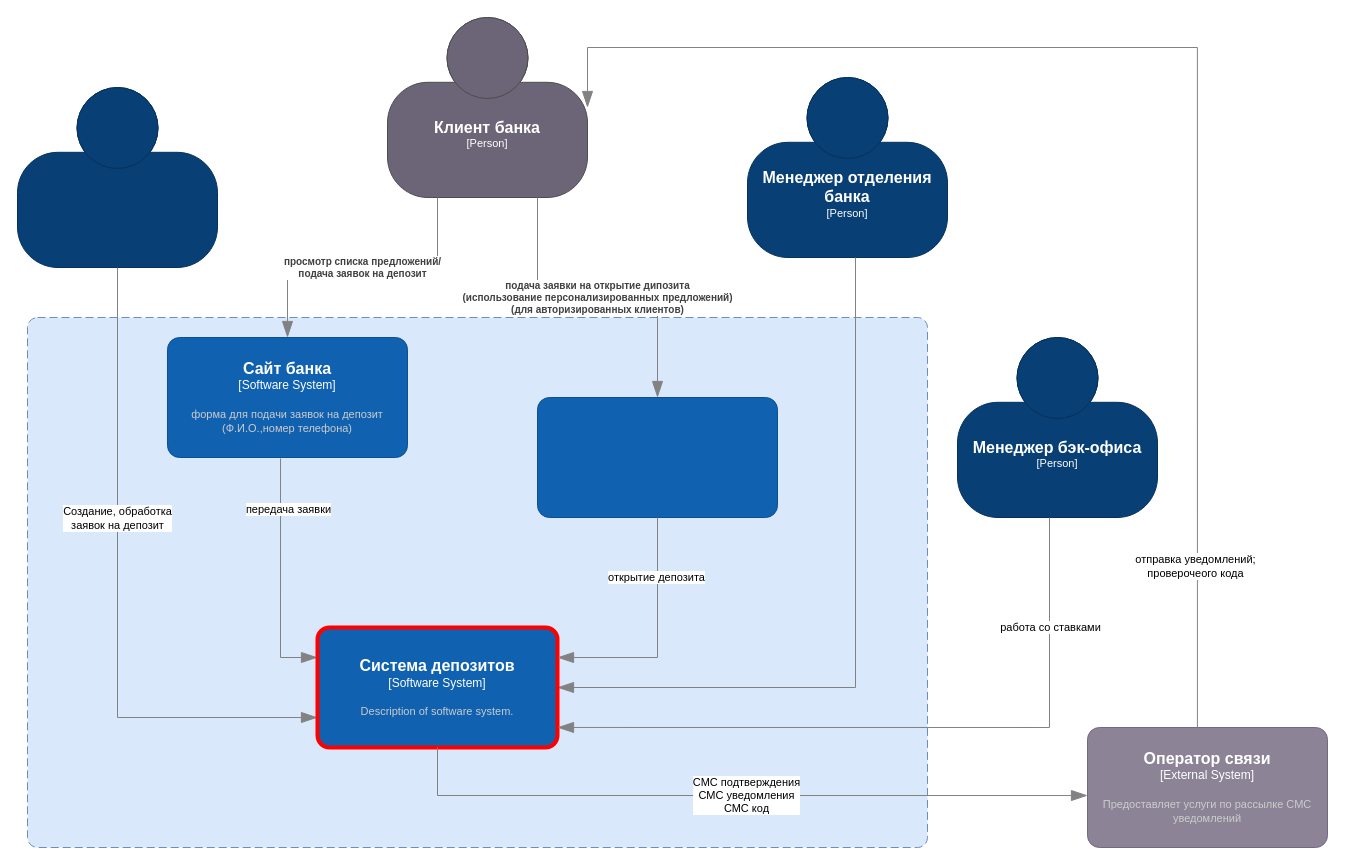
Image size: 1345x865. Some labels were removed from this diagram. The box of each missing label's shape, as (x1, y1, x2, y2) in pixels:
Интернет-банк [Software System]: (536, 396, 778, 518)
Оператор колл-центра [Person]: (16, 86, 218, 268)
Система Банка "Стандарт" [Software System]: (26, 316, 928, 848)
